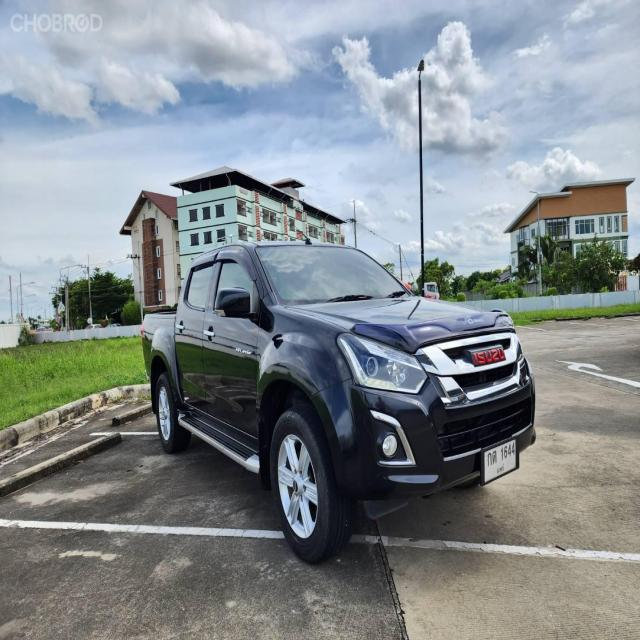license_plate: (482, 433, 524, 486)
